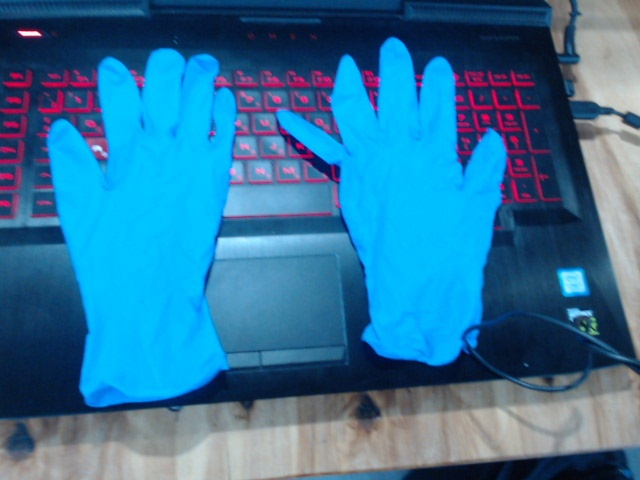medical_glove: (277, 37, 507, 366), (47, 47, 235, 405)
